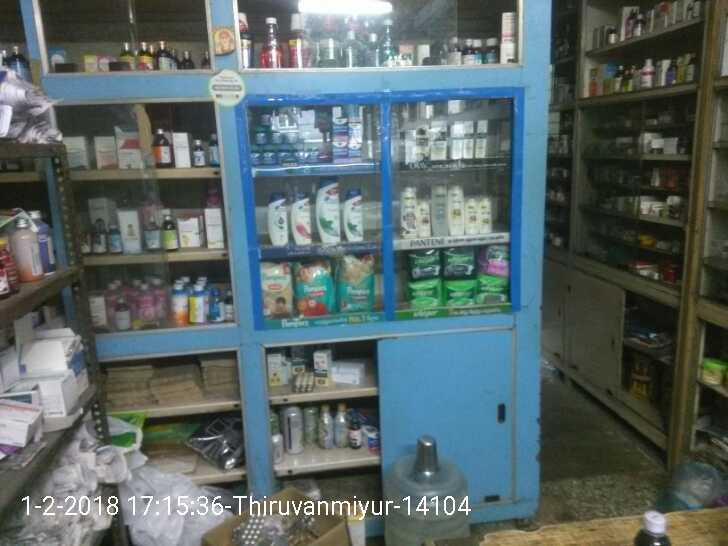vicks: (250, 108, 366, 161)
